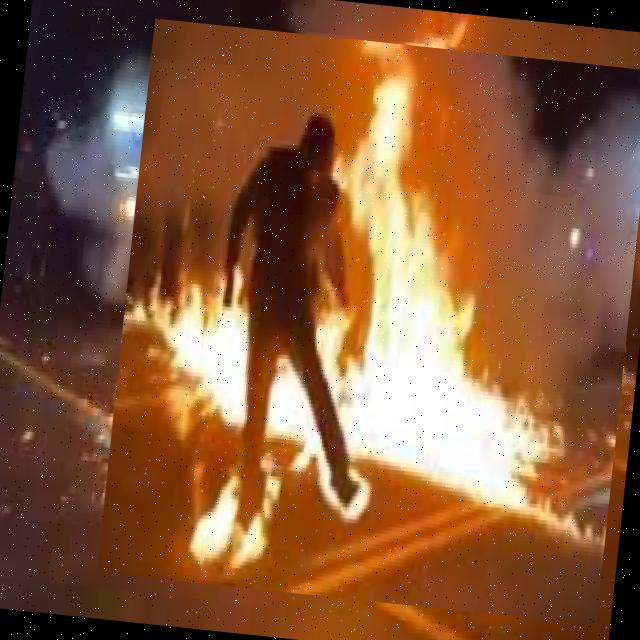fire: (96, 18, 640, 625)
